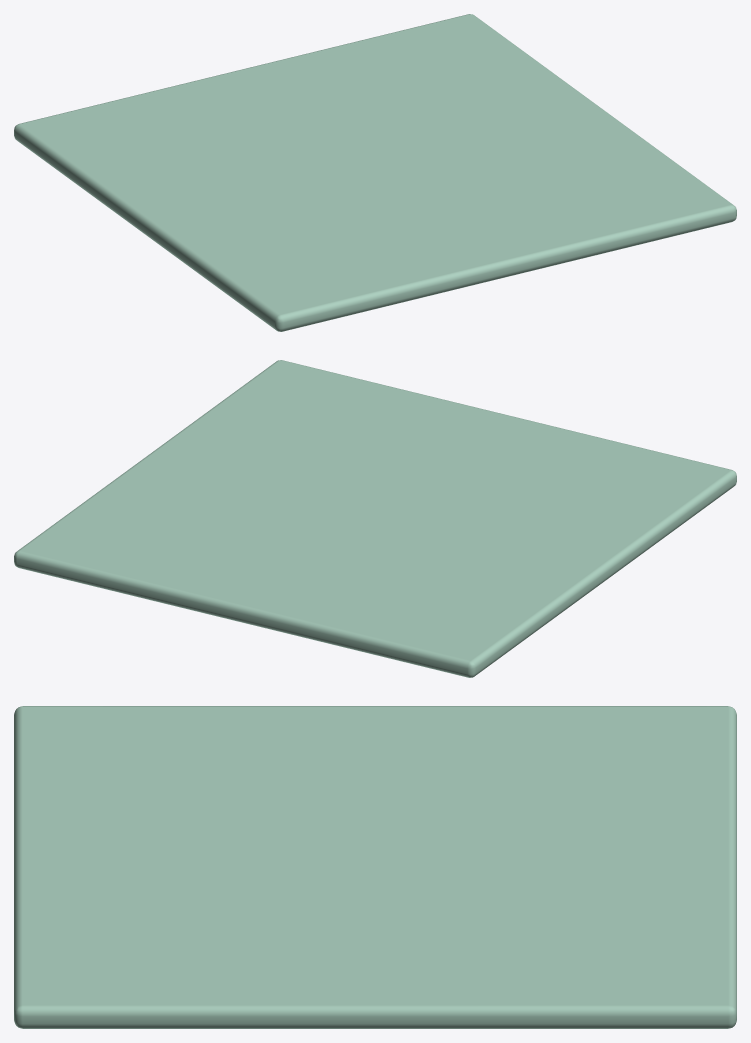
Rendered from marker-valid.glb.
The picture shows the model from 3 angles, top to bottom: view 1: azimuth 30°, elevation 25°; view 2: azimuth 150°, elevation 25°; view 3: azimuth 270°, elevation 25°; orthographic projection. The views are drawn at different scales.
Parts seen in each view (by area): view 1: Placement footprint; view 2: Placement footprint; view 3: Placement footprint.
Part boxes in pixels (<box>): Placement footprint: <box>14,14,736,331</box>; Placement footprint: <box>14,360,736,677</box>; Placement footprint: <box>14,706,736,1028</box>.
Bounding box in the file's own units: 1 × 0.035 × 1.
